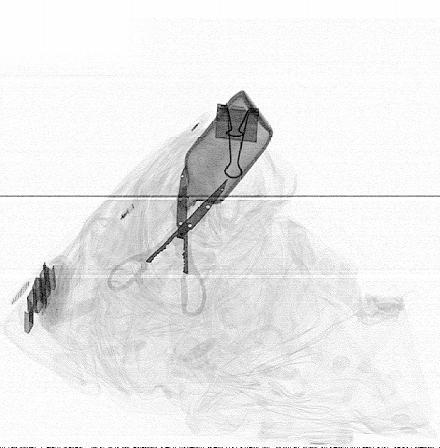Scissors: (103, 161, 231, 321)
